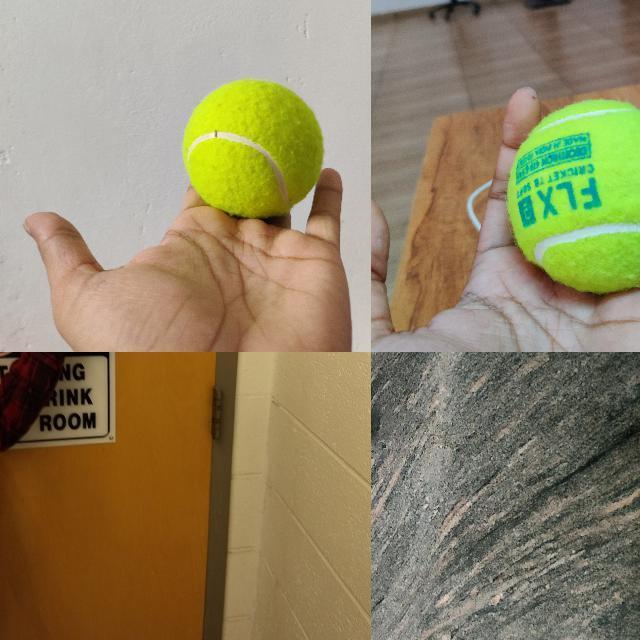tennis-ball: (506, 100, 639, 293), (181, 78, 323, 218)
